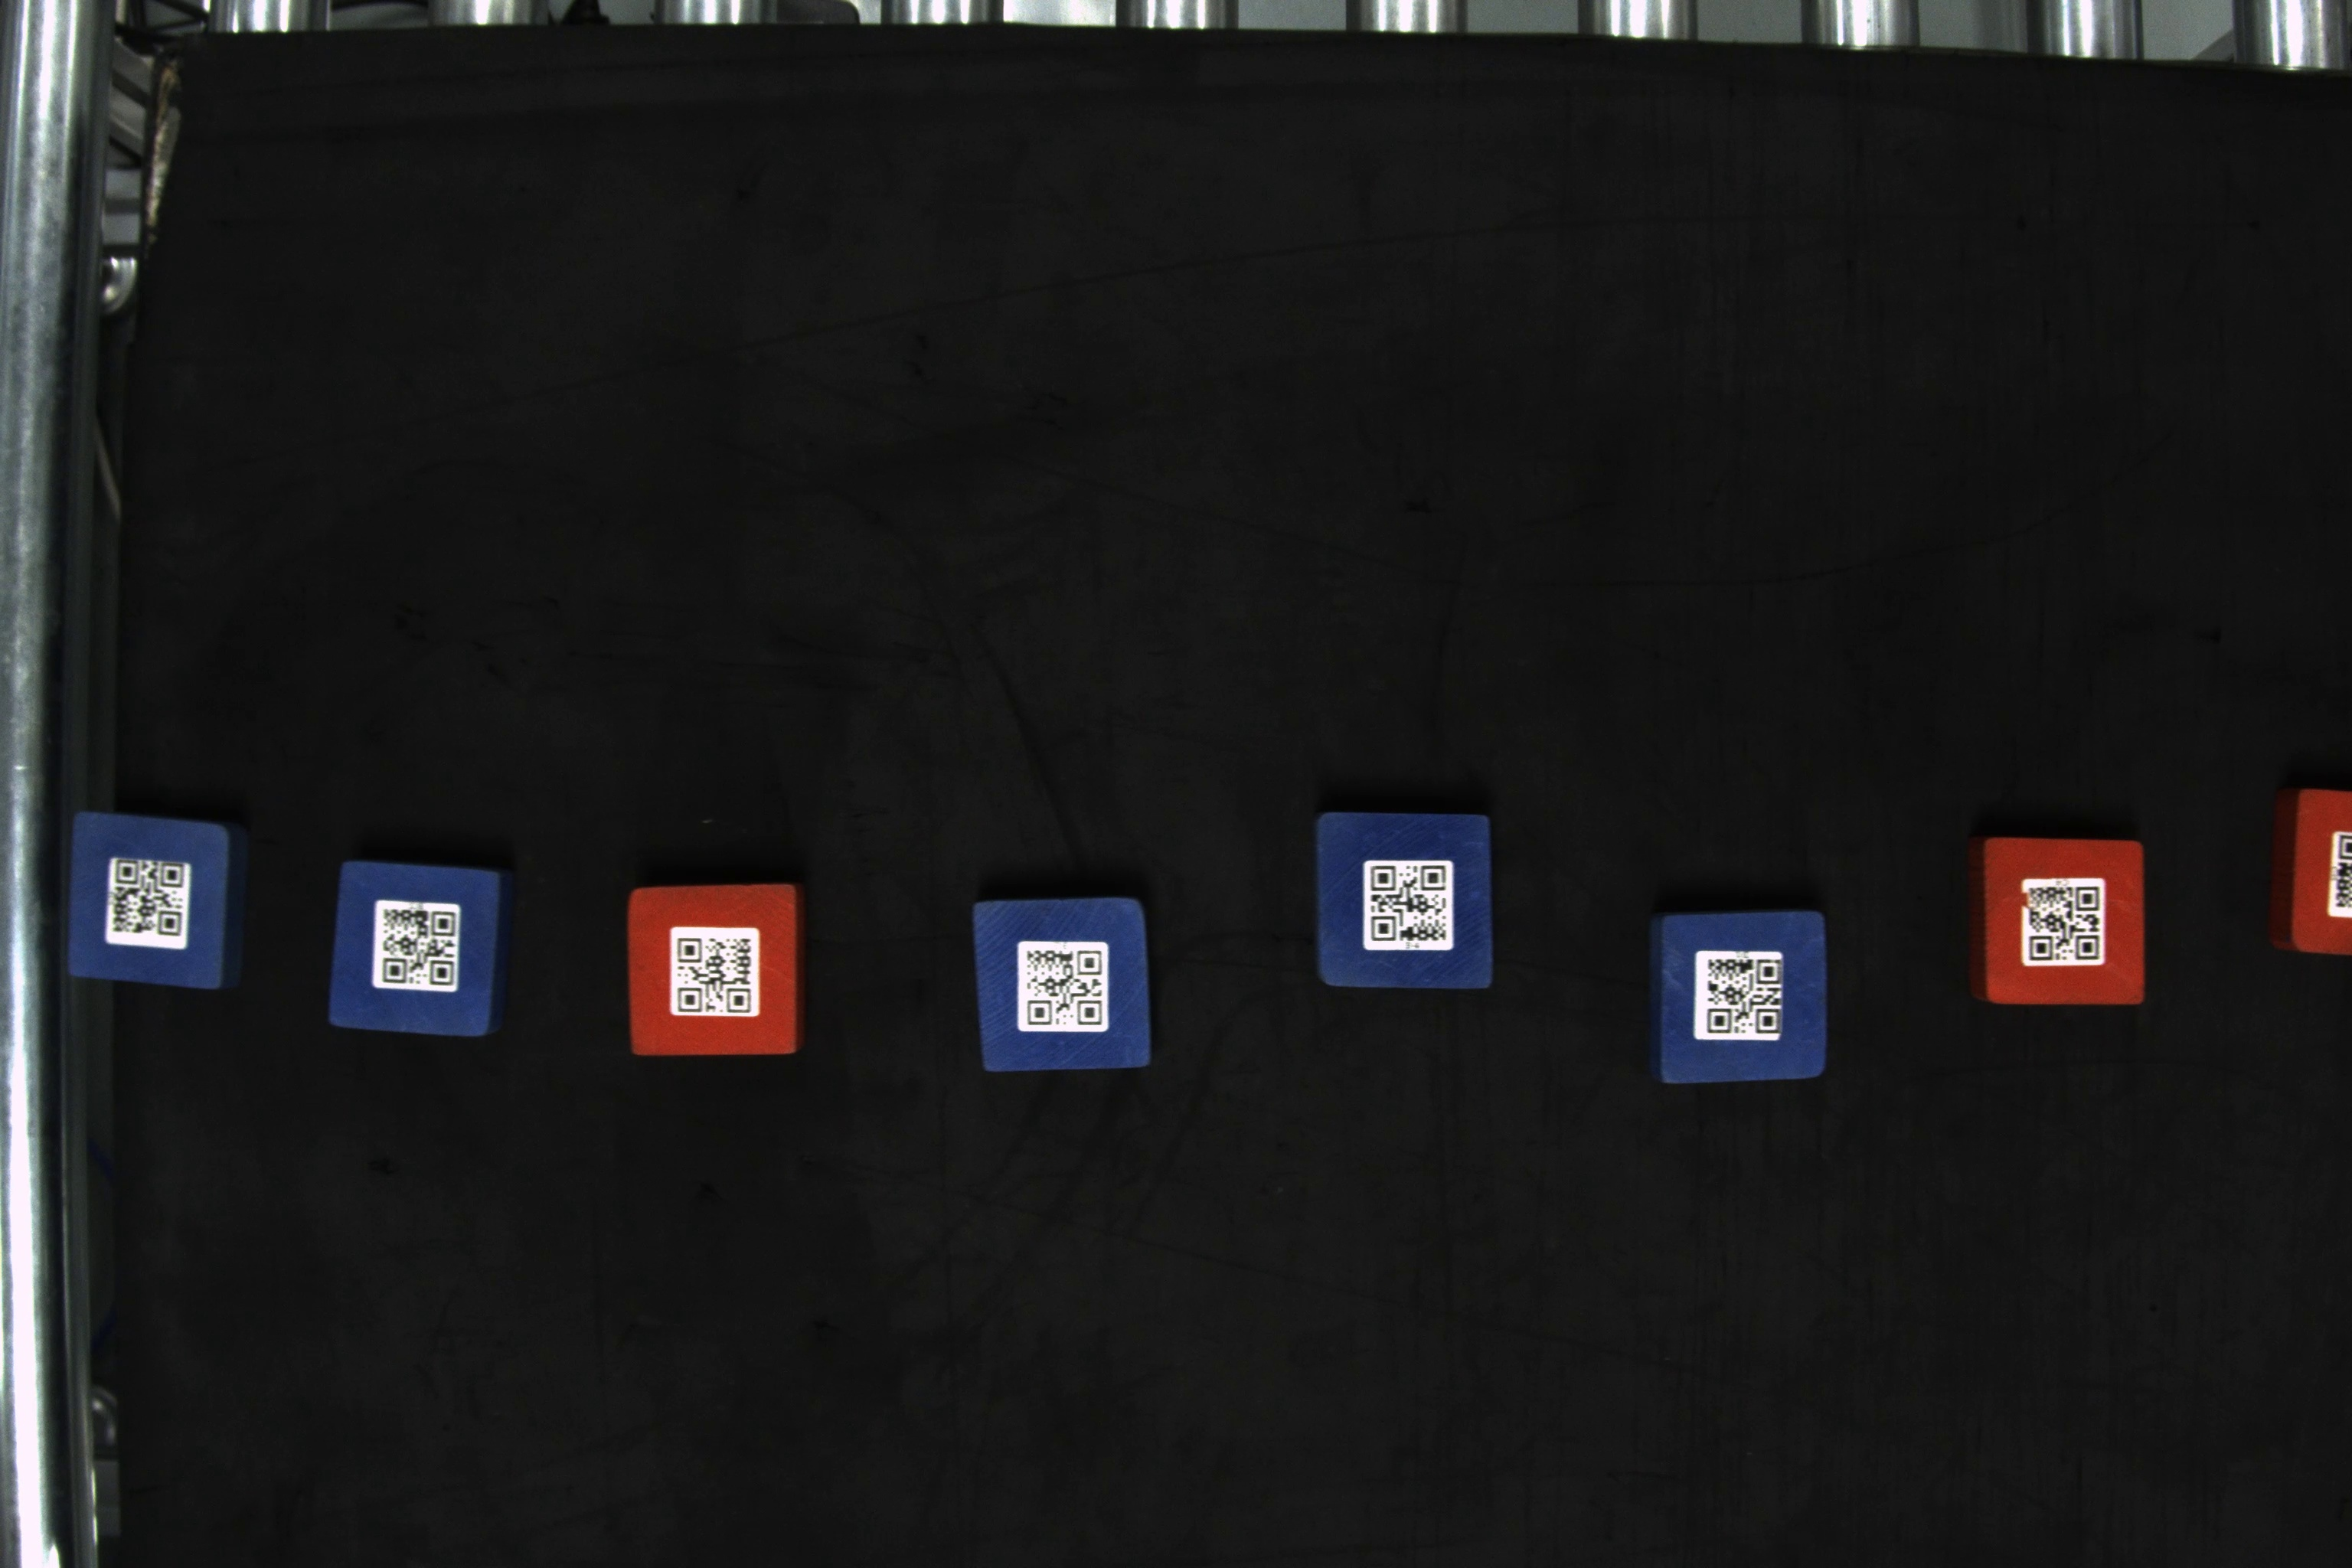wood: (325, 852, 509, 1041), (971, 896, 1160, 1074), (70, 808, 250, 994), (1970, 826, 2151, 1011), (1316, 810, 1498, 992), (1647, 912, 1829, 1087), (625, 885, 803, 1059), (2271, 789, 2352, 955)
